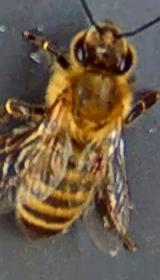varroa_mite: (83, 143, 107, 171)
